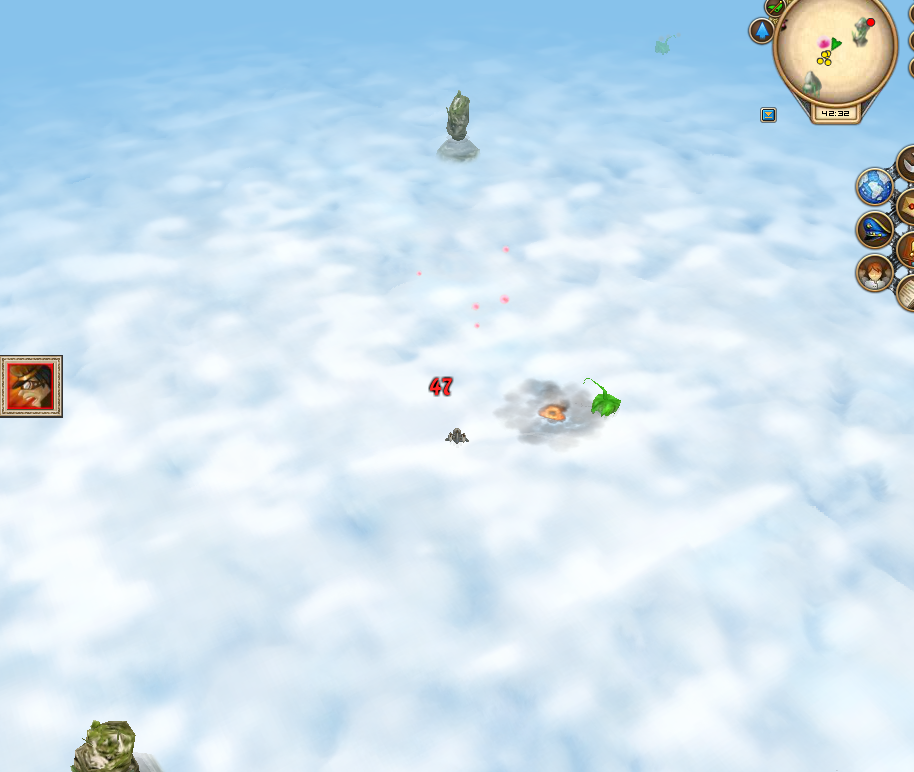dandelion-empty: (576, 371, 624, 423)
fluff: (498, 291, 512, 306), (469, 298, 482, 311), (413, 266, 424, 278), (472, 320, 482, 330), (502, 244, 511, 255)
